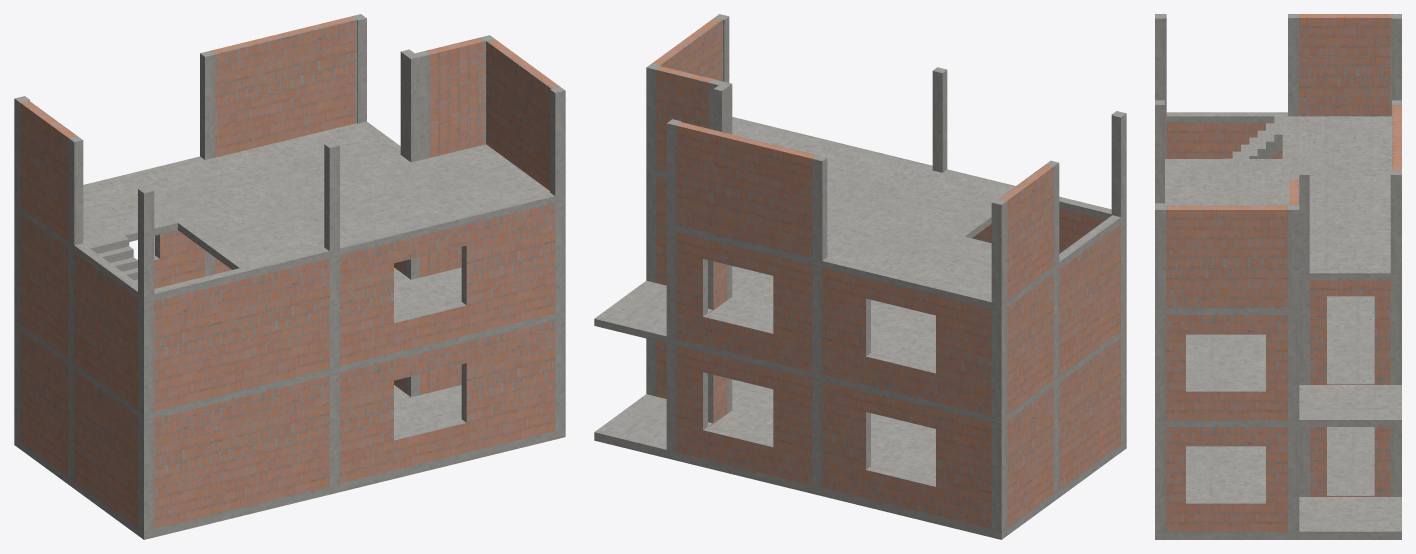
File: construction.fbx
3 views of the same model, side by side, from view 1: azimuth 30°, elevation 25°; view 2: azimuth 150°, elevation 25°; view 3: azimuth 270°, elevation 25° (orthographic). The views are drawn at different scales.
Visible parts, largest first — view 1: Construction; view 2: Construction; view 3: Construction.
Part boxes in pixels (x1,y1,x2,y2): Construction: [14, 14, 565, 539]; Construction: [594, 14, 1126, 539]; Construction: [1155, 14, 1401, 539].
Size of the model in its own units: 839 by 659 by 447.
Materials: 1 (1 with a texture image).
